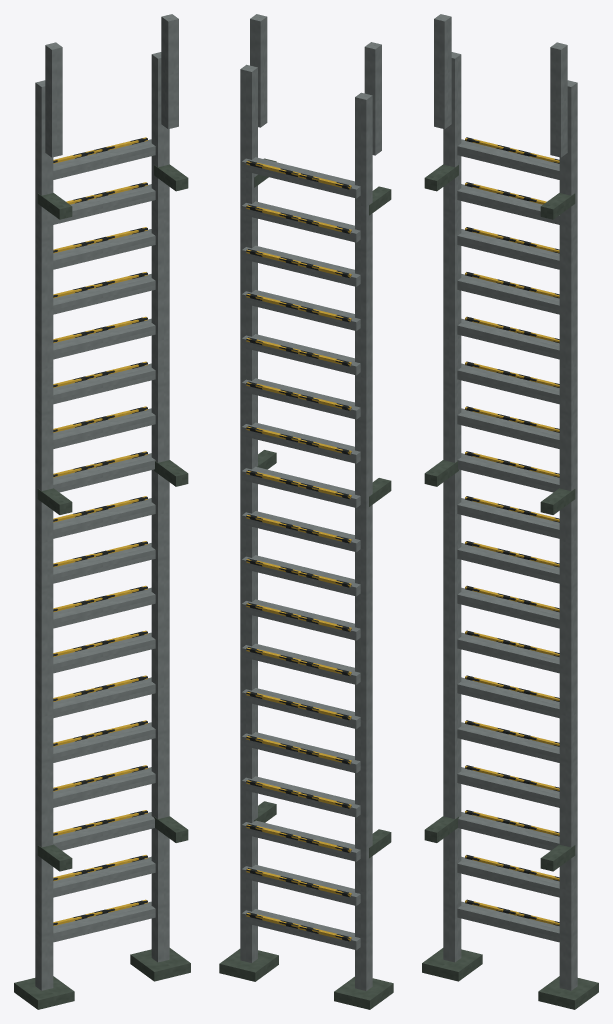
The model's file is PZ_Blackline_Access_Ladder_Module.glb.
3 renders of one model, left to right at view 1: azimuth 30°, elevation 25°; view 2: azimuth 150°, elevation 25°; view 3: azimuth 330°, elevation 25°, orthographic.
Visible parts, largest first — view 1: SM_Ladder_Left_SquareRail, SM_Ladder_Right_SquareRail, SM_Ladder_Left_TopGrasp, SM_Ladder_Right_TopGrasp, SM_Ladder_Rung_Nonslip_06, SM_Ladder_Rung_Nonslip_00, SM_Ladder_Rung_Nonslip_03, SM_Ladder_Rung_Nonslip_09, SM_Ladder_Rung_Nonslip_01, SM_Ladder_Rung_Nonslip_11, SM_Ladder_Rung_Nonslip_14, SM_Ladder_Rung_Nonslip_08 (+35 smaller); view 2: SM_Ladder_Left_SquareRail, SM_Ladder_Right_SquareRail, SM_Ladder_Rung_Nonslip_12, SM_Ladder_Rung_Nonslip_11, SM_Ladder_Rung_Nonslip_13, SM_Ladder_Rung_Nonslip_03, SM_Ladder_Rung_Nonslip_04, SM_Ladder_Rung_Nonslip_10, SM_Ladder_Rung_Nonslip_14, SM_Ladder_Rung_Nonslip_00, SM_Ladder_Rung_Nonslip_01, SM_Ladder_Rung_Nonslip_07 (+30 smaller); view 3: SM_Ladder_Right_SquareRail, SM_Ladder_Left_SquareRail, SM_Ladder_Right_TopGrasp, SM_Ladder_Left_TopGrasp, SM_Ladder_Rung_Nonslip_06, SM_Ladder_Rung_Nonslip_00, SM_Ladder_Rung_Nonslip_03, SM_Ladder_Rung_Nonslip_09, SM_Ladder_Rung_Nonslip_01, SM_Ladder_Rung_Nonslip_11, SM_Ladder_Rung_Nonslip_14, SM_Ladder_Rung_Nonslip_08 (+35 smaller).
Part boxes in pixels (x1,y1,x2,y2): SM_Ladder_Left_SquareRail: (35,80,53,990); SM_Ladder_Right_SquareRail: (151,52,169,962); SM_Ladder_Left_TopGrasp: (45,42,62,157); SM_Ladder_Right_TopGrasp: (161,14,178,129); SM_Ladder_Rung_Nonslip_06: (53,632,155,673); SM_Ladder_Rung_Nonslip_00: (53,901,155,942); SM_Ladder_Rung_Nonslip_03: (53,767,155,807); SM_Ladder_Rung_Nonslip_09: (53,498,155,538); SM_Ladder_Rung_Nonslip_01: (53,856,155,897); SM_Ladder_Rung_Nonslip_11: (53,408,155,448); SM_Ladder_Rung_Nonslip_14: (53,274,155,314); SM_Ladder_Rung_Nonslip_08: (53,543,155,583); SM_Ladder_Left_SquareRail: (355,92,372,990); SM_Ladder_Right_SquareRail: (240,64,257,962); SM_Ladder_Rung_Nonslip_12: (242,378,360,419); SM_Ladder_Rung_Nonslip_11: (242,422,360,463); SM_Ladder_Rung_Nonslip_13: (242,334,360,375); SM_Ladder_Rung_Nonslip_03: (242,776,360,817); SM_Ladder_Rung_Nonslip_04: (242,732,360,773); SM_Ladder_Rung_Nonslip_10: (242,466,360,507); SM_Ladder_Rung_Nonslip_14: (242,290,360,330); SM_Ladder_Rung_Nonslip_00: (242,909,360,950); SM_Ladder_Rung_Nonslip_01: (242,864,360,905); SM_Ladder_Rung_Nonslip_07: (242,599,360,640); SM_Ladder_Right_SquareRail: (559,80,577,990); SM_Ladder_Left_SquareRail: (443,52,461,962); SM_Ladder_Right_TopGrasp: (550,42,567,157); SM_Ladder_Left_TopGrasp: (434,14,451,129); SM_Ladder_Rung_Nonslip_06: (457,632,559,673); SM_Ladder_Rung_Nonslip_00: (457,901,559,942); SM_Ladder_Rung_Nonslip_03: (457,767,559,807); SM_Ladder_Rung_Nonslip_09: (457,498,559,538); SM_Ladder_Rung_Nonslip_01: (457,856,559,897); SM_Ladder_Rung_Nonslip_11: (457,408,559,448); SM_Ladder_Rung_Nonslip_14: (457,274,559,314); SM_Ladder_Rung_Nonslip_08: (457,543,559,583).
Bounding box in the file's own units: 0.92 × 5.51 × 0.35.
Materials: 3 (3 with a texture image).
